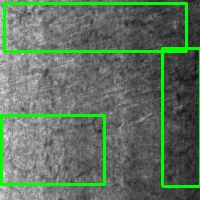crazing: (4, 3, 186, 51), (1, 115, 104, 184), (162, 48, 200, 186)
